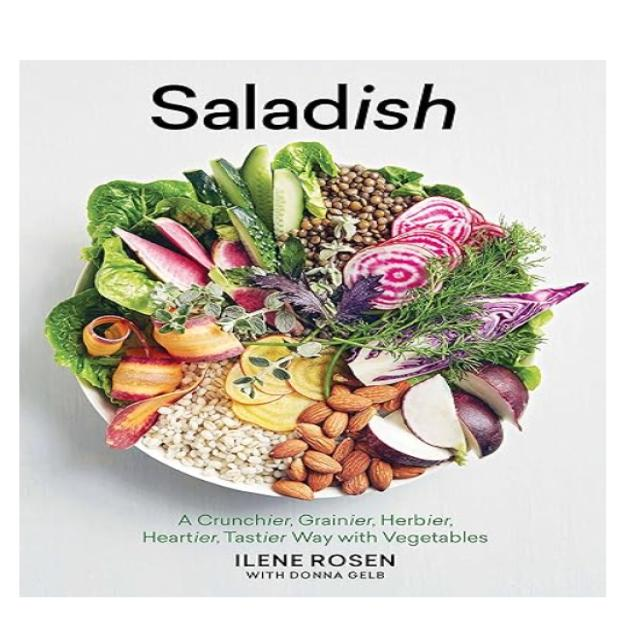titles-or-authors: (139, 72, 468, 140), (228, 546, 406, 571)
